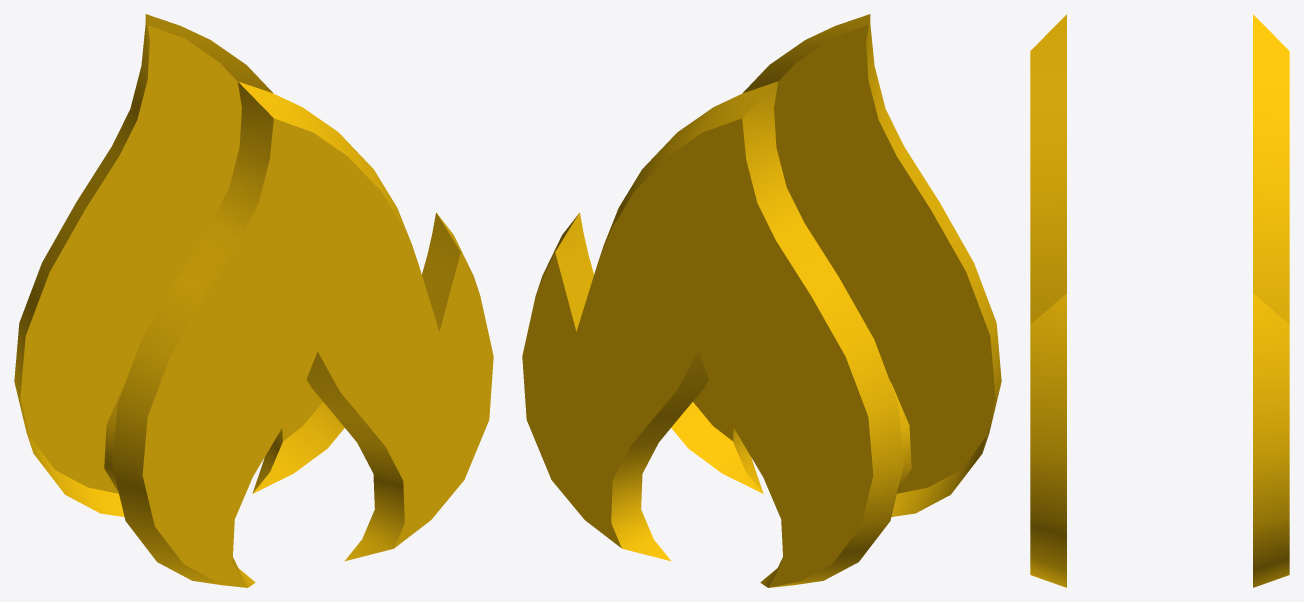
File: Fire.fbx
3 renders of one model, left to right at view 1: azimuth 30°, elevation 25°; view 2: azimuth 150°, elevation 25°; view 3: azimuth 270°, elevation 25°, orthographic.
Parts seen in each view (by area): view 1: Fire; view 2: Fire; view 3: Fire.
Boxes of the visible parts, bbox=[...] form: Fire: bbox=[14, 14, 493, 587]; Fire: bbox=[522, 14, 1001, 587]; Fire: bbox=[1030, 14, 1289, 587].
Size of the model in its own units: 77.23 by 99.51 by 45.74.
